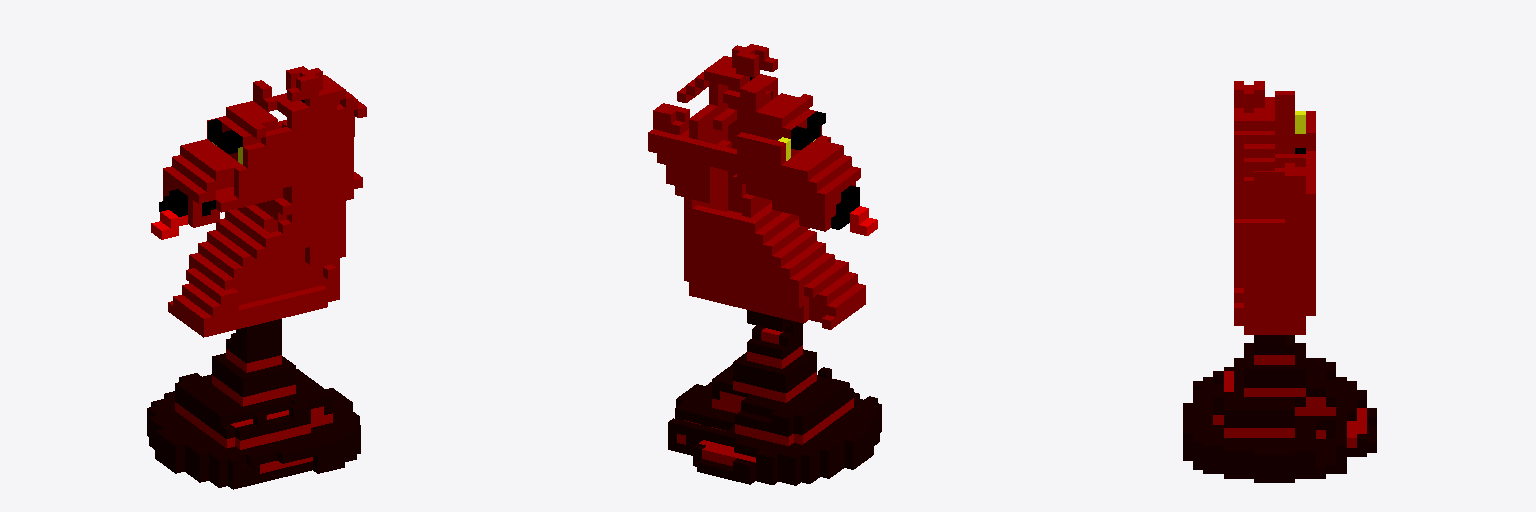
3 views of the same model, side by side, from view 1: azimuth 30°, elevation 25°; view 2: azimuth 150°, elevation 25°; view 3: azimuth 270°, elevation 25° (orthographic).
Parts seen in each view (by area): view 1: object 1; view 2: object 1; view 3: object 1.
Part boxes in pixels (x1,y1,x2,y2): object 1: (147,66,366,489); object 1: (648,44,881,485); object 1: (1183,81,1376,482).
Size of the model in its own units: 2.3 by 4 by 1.9.
1 materials, 1 textured.